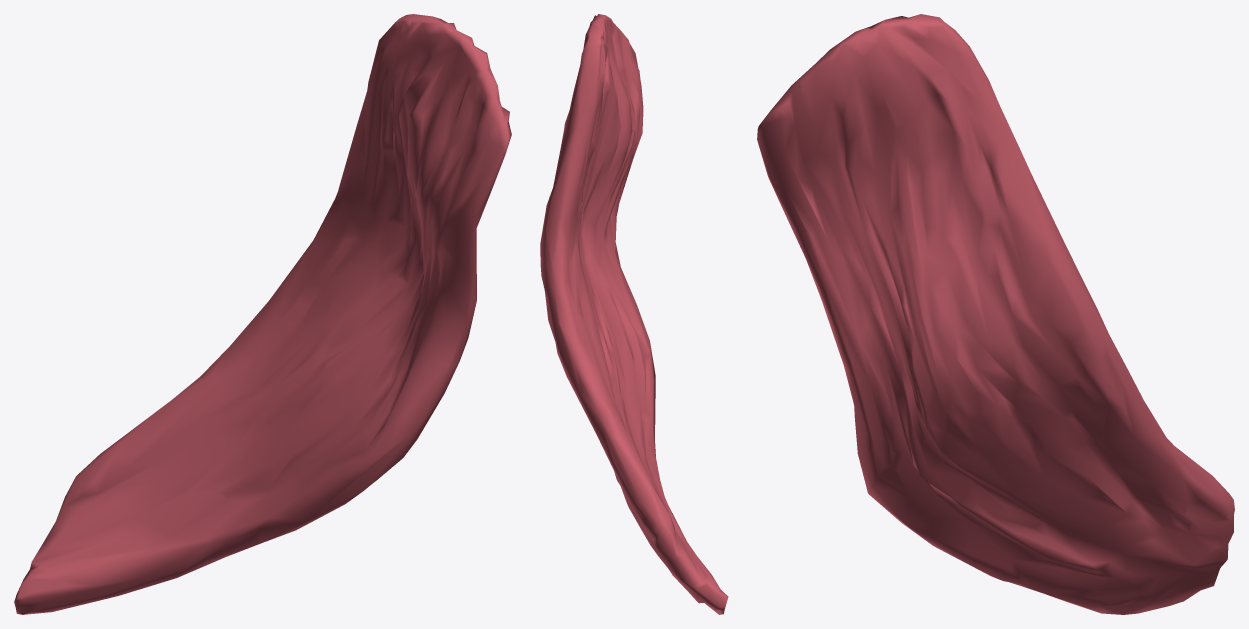
3 views of the same model, side by side, from view 1: azimuth 30°, elevation 25°; view 2: azimuth 150°, elevation 25°; view 3: azimuth 270°, elevation 25° (orthographic). The views are drawn at different scales.
Parts seen in each view (by area): view 1: 左侧环甲肌斜部; view 2: 左侧环甲肌斜部; view 3: 左侧环甲肌斜部.
Part boxes in pixels (x1,y1,x2,y2): 左侧环甲肌斜部: (14,14,511,614); 左侧环甲肌斜部: (540,14,728,614); 左侧环甲肌斜部: (757,14,1234,614).
Bounding box in the file's own units: 0.013 × 0.0233 × 0.0137.
